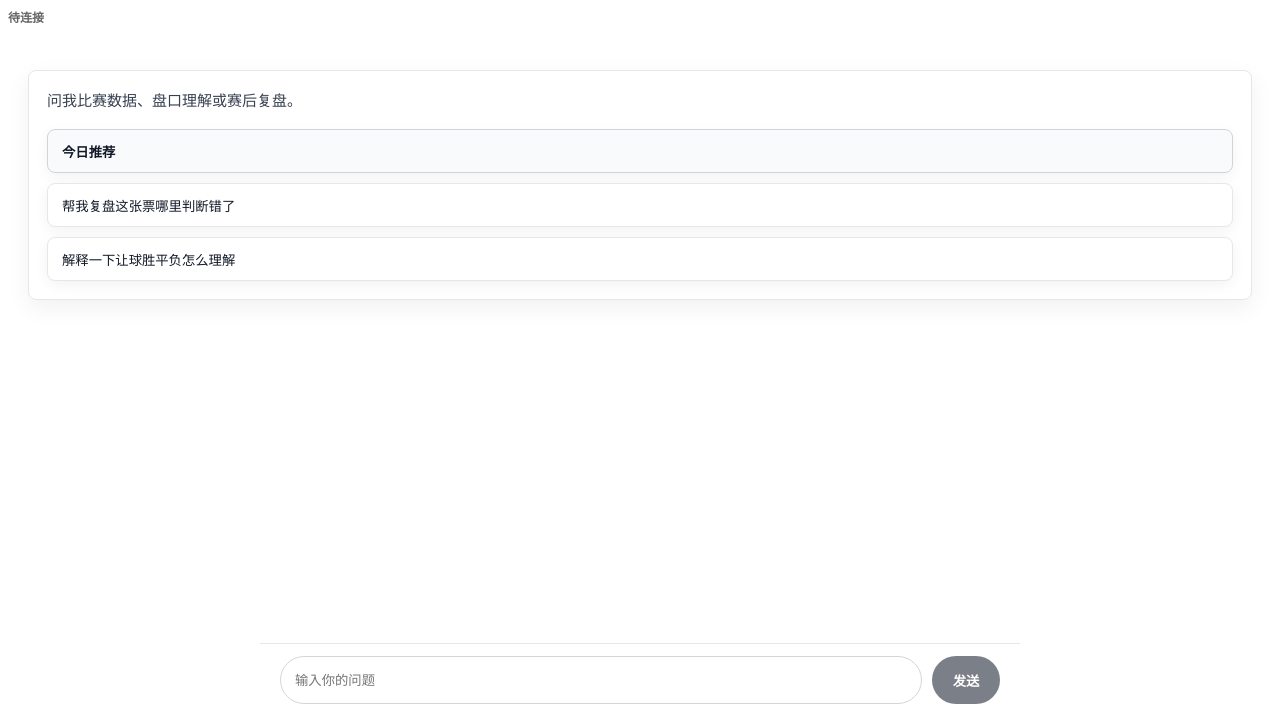
Test case: ChatPage › renders assistant markdown replies in embedded mode
Click the button "今日推荐" at (89, 152), box [47, 129, 1233, 173]
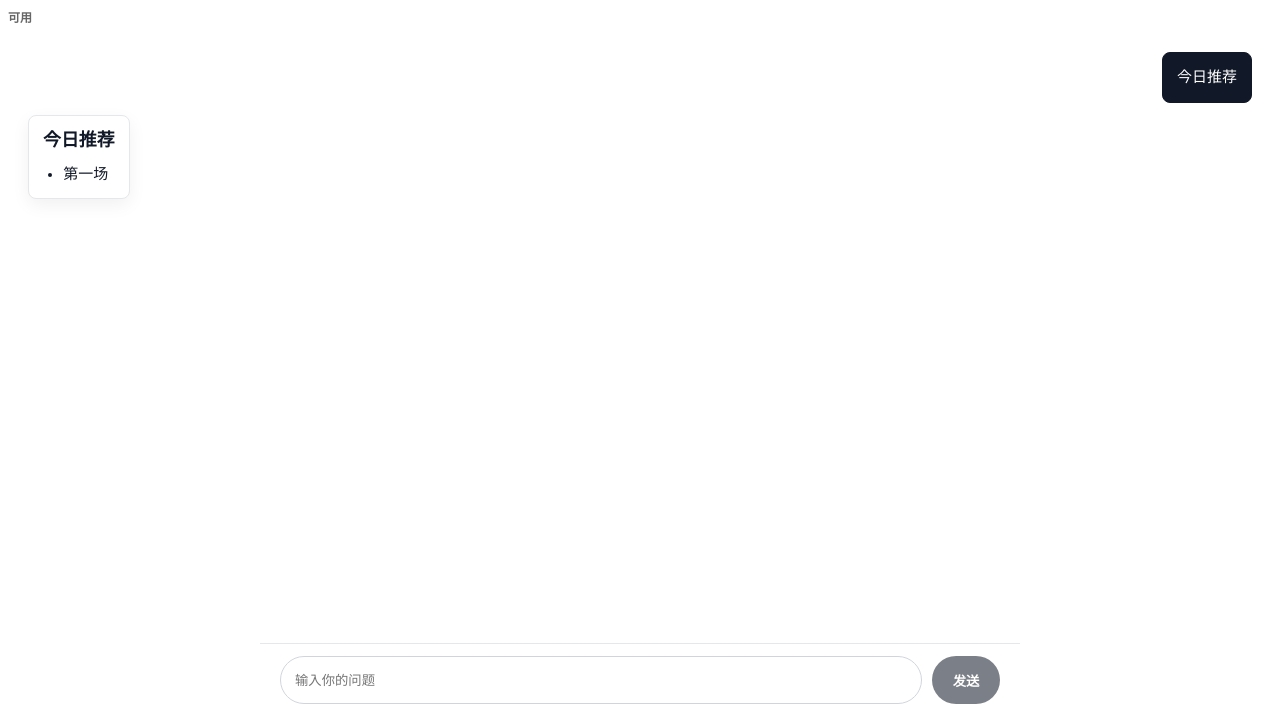
Result: the heading "今日推荐" is shown at [43, 128, 115, 152]
Result: the list item "第一场" is shown at [63, 162, 115, 186]
